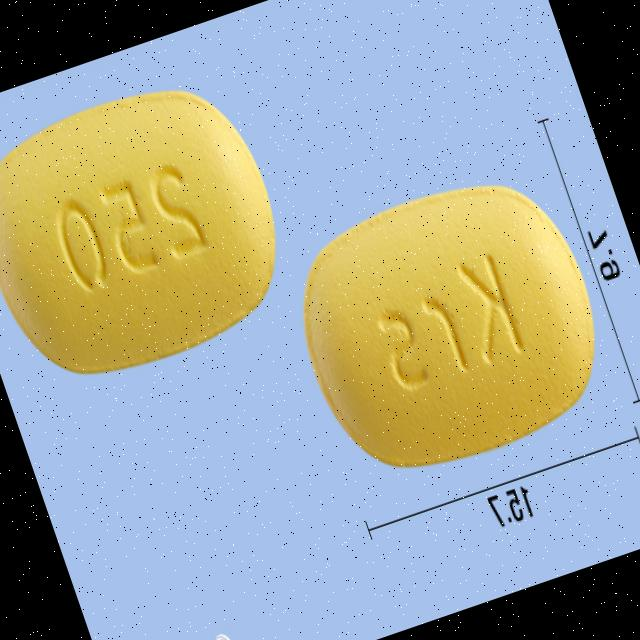Clomicin: (270, 153, 627, 497), (0, 61, 307, 403)
